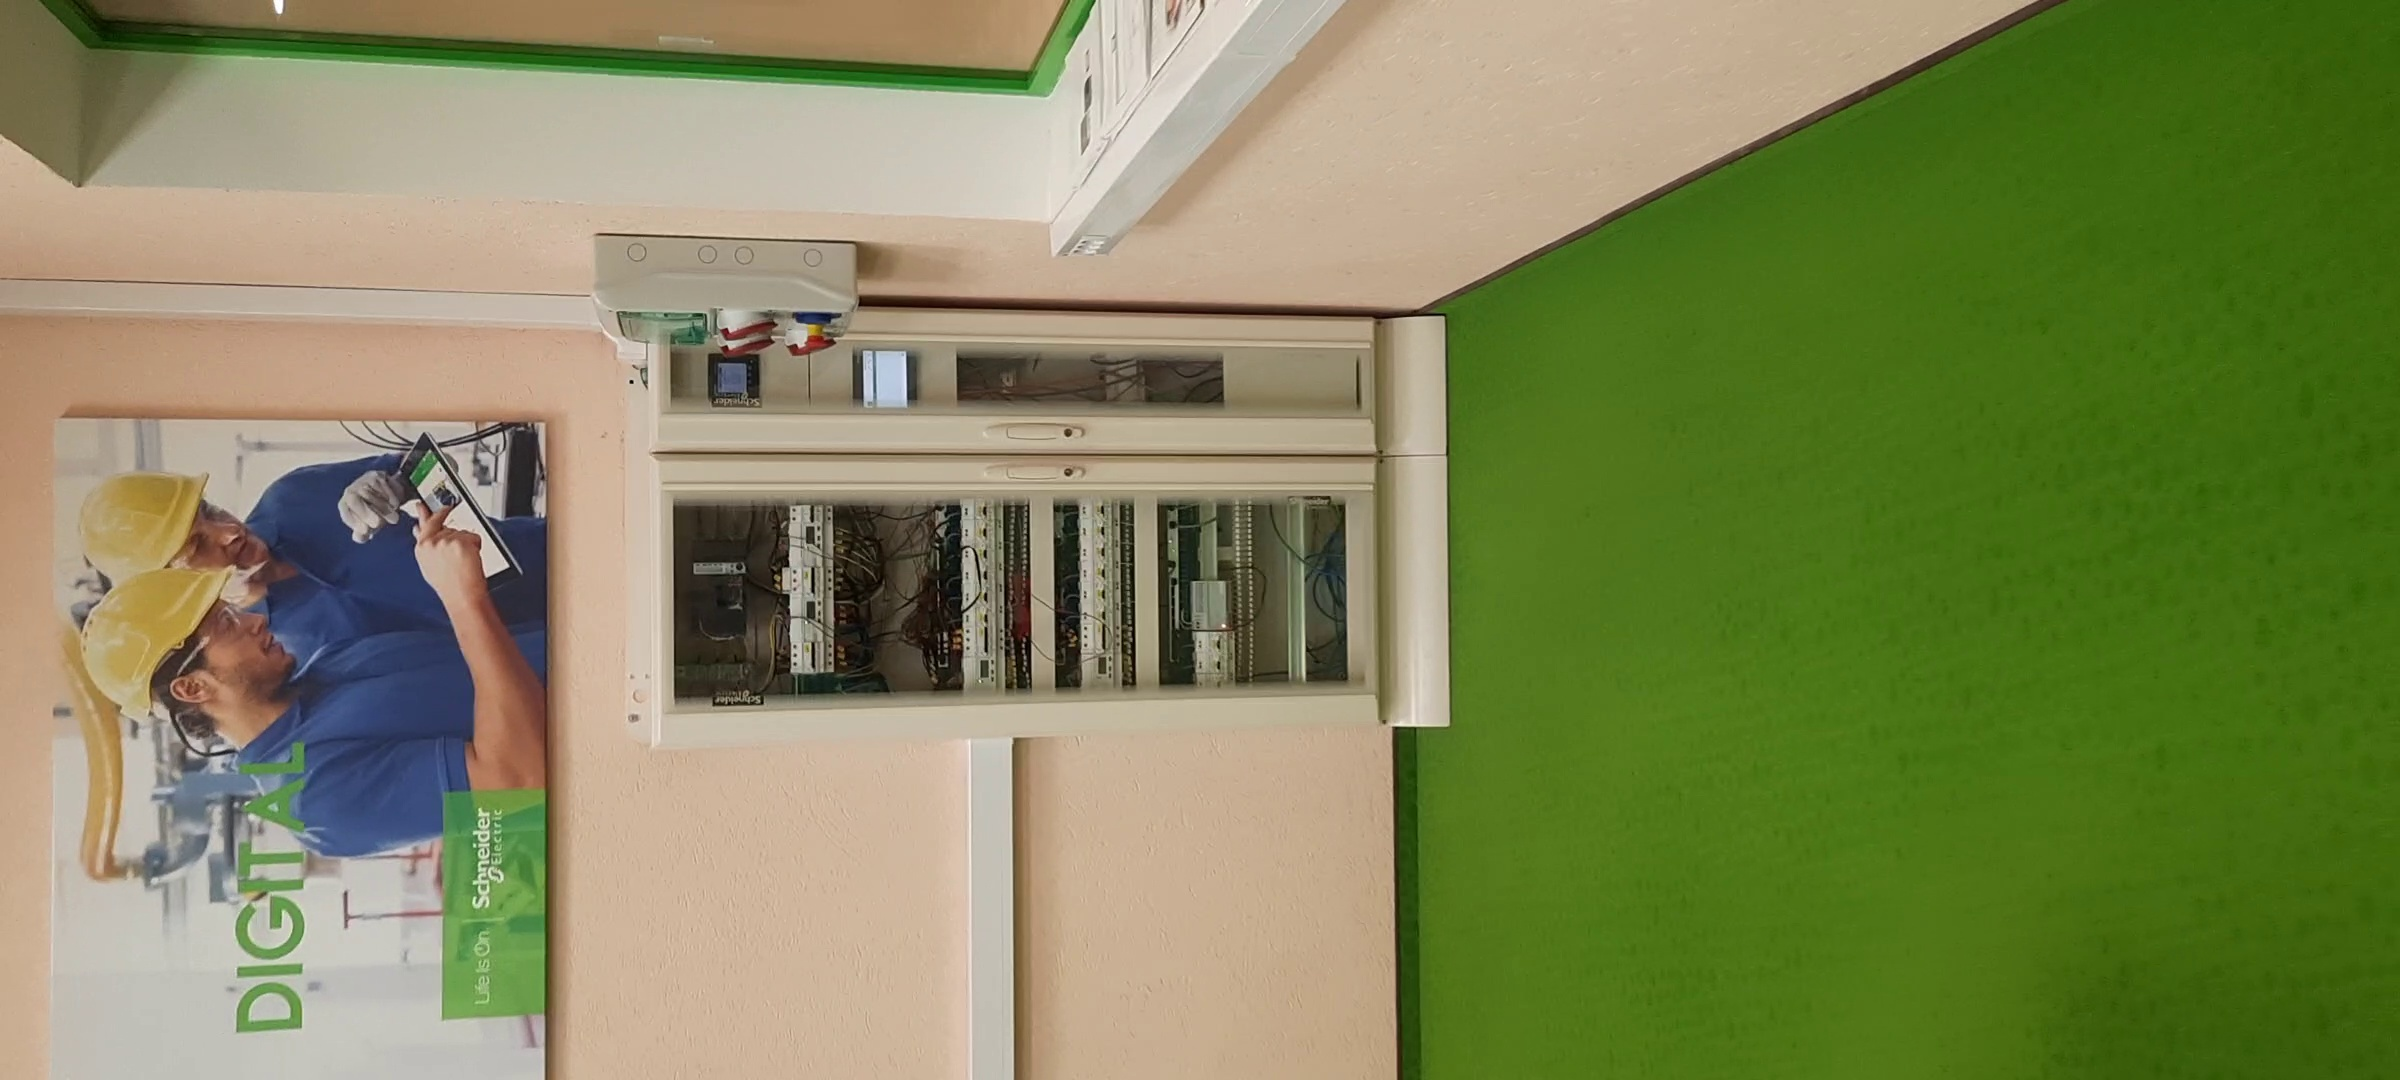stand1: (638, 321, 1449, 736)
